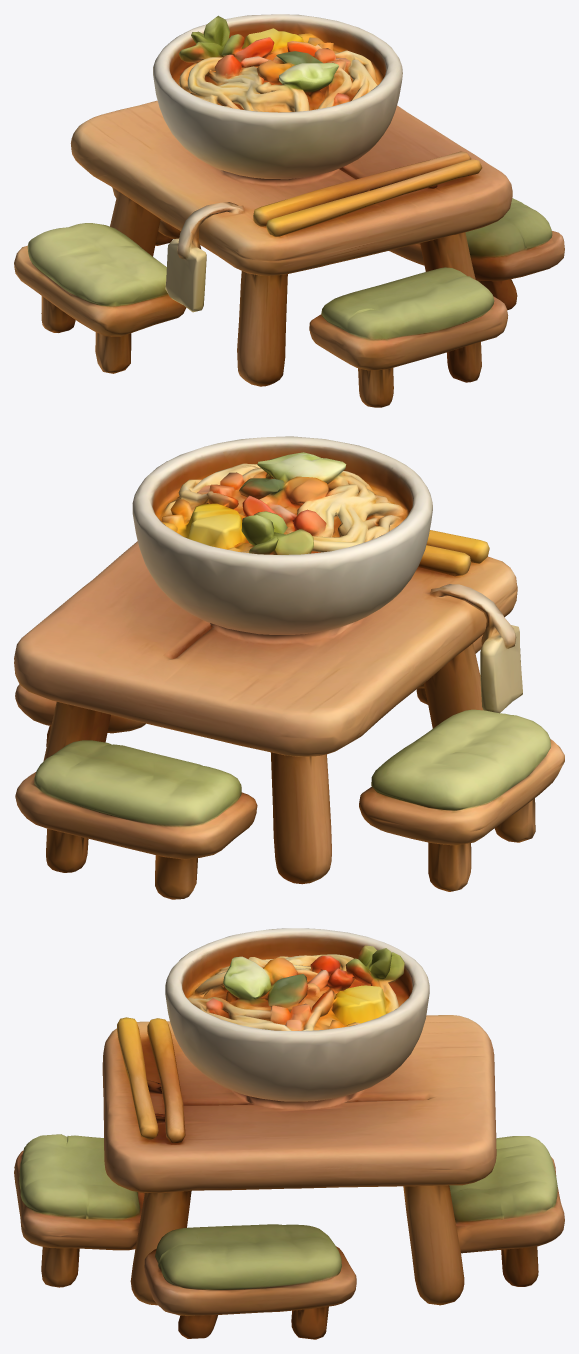
The model's file is curator-detail.glb.
3 views of the same model, one above another, from view 1: azimuth 30°, elevation 25°; view 2: azimuth 150°, elevation 25°; view 3: azimuth 270°, elevation 25° (orthographic). The views are drawn at different scales.
Parts seen in each view (by area): view 1: tripo_node_31b4c65d-6d26-463d-91f3-ad3bc270f19b; view 2: tripo_node_31b4c65d-6d26-463d-91f3-ad3bc270f19b; view 3: tripo_node_31b4c65d-6d26-463d-91f3-ad3bc270f19b.
Boxes of the visible parts, x1,y1,x2,y2 form: tripo_node_31b4c65d-6d26-463d-91f3-ad3bc270f19b: [14, 14, 564, 407]; tripo_node_31b4c65d-6d26-463d-91f3-ad3bc270f19b: [14, 436, 564, 899]; tripo_node_31b4c65d-6d26-463d-91f3-ad3bc270f19b: [14, 928, 564, 1339].
Bounding box in the file's own units: 0.965 × 0.5645 × 0.9807.
1 material, 1 textured.
